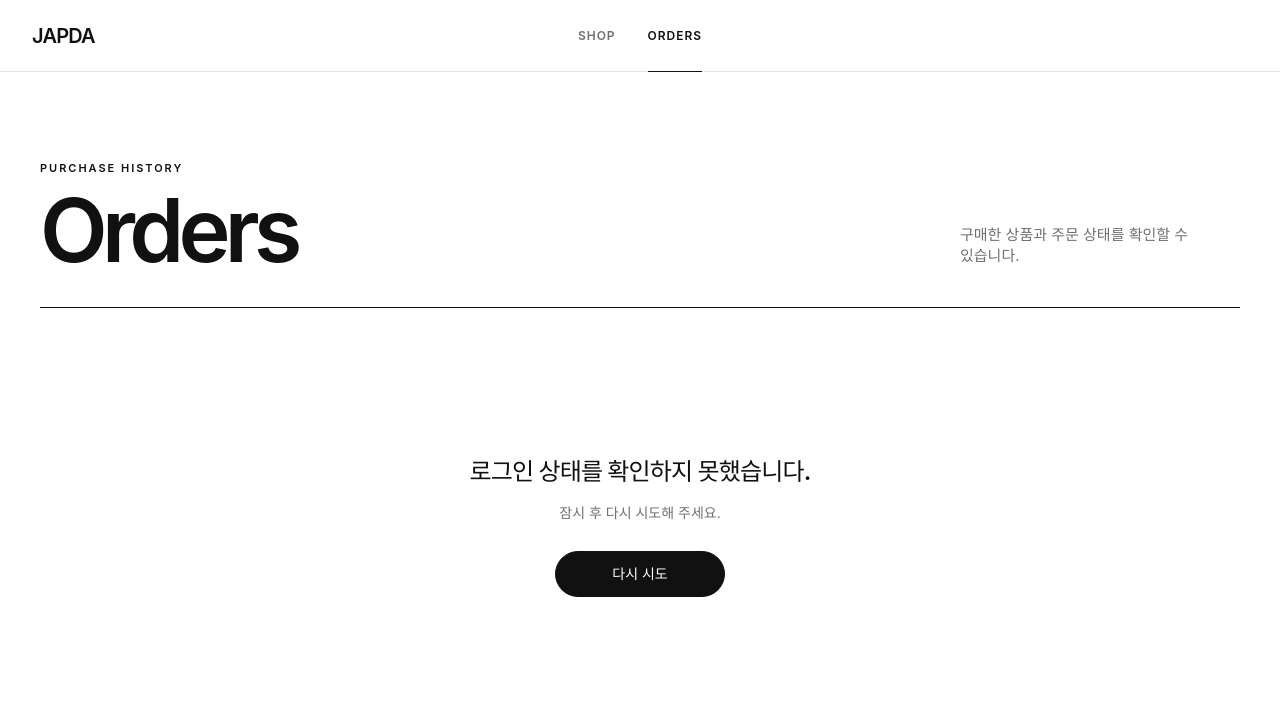
it: 로그인 상태 확인 실패를 주문 조회 실패와 구분하고 재시도한다
The image size is (1280, 720).
Expected: the message shows "로그인 상태를 확인하지 못했습니다.", [470,457,810,486]
Click the button "다시 시도" at (640, 574), box [555,551,725,597]
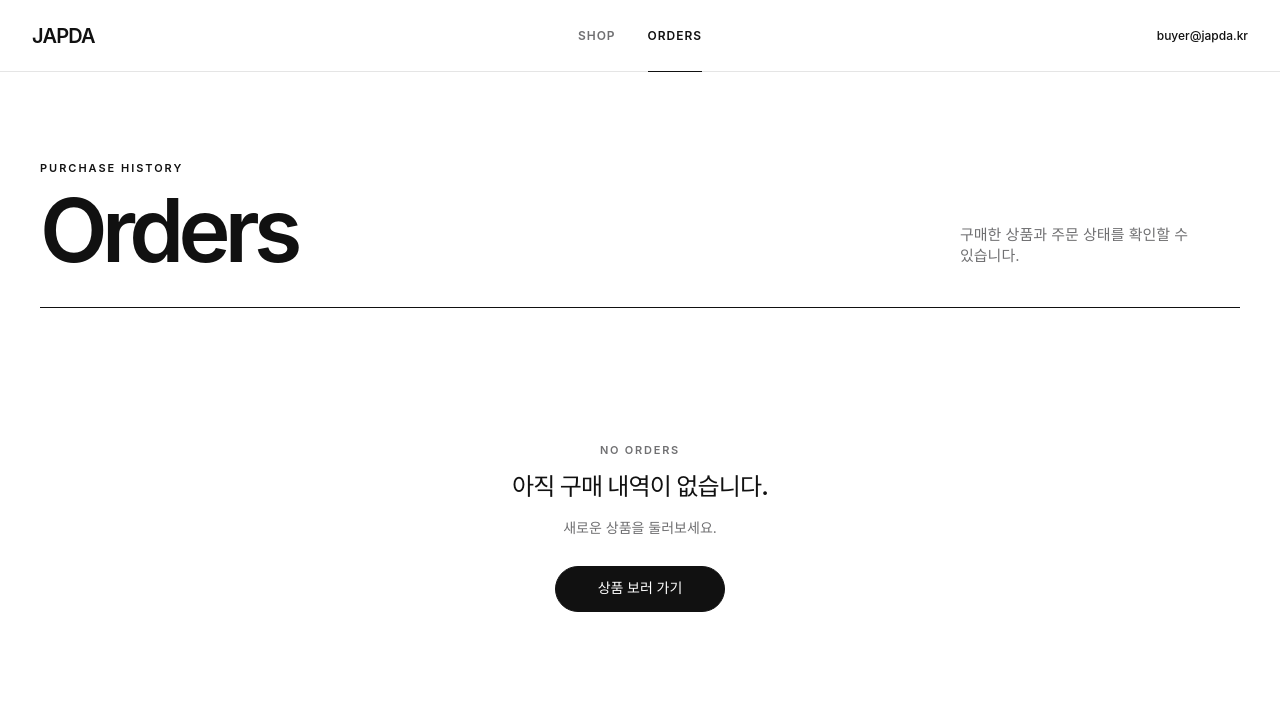
Result: the heading "아직 구매 내역이 없습니다." is shown at [512,472,768,501]
